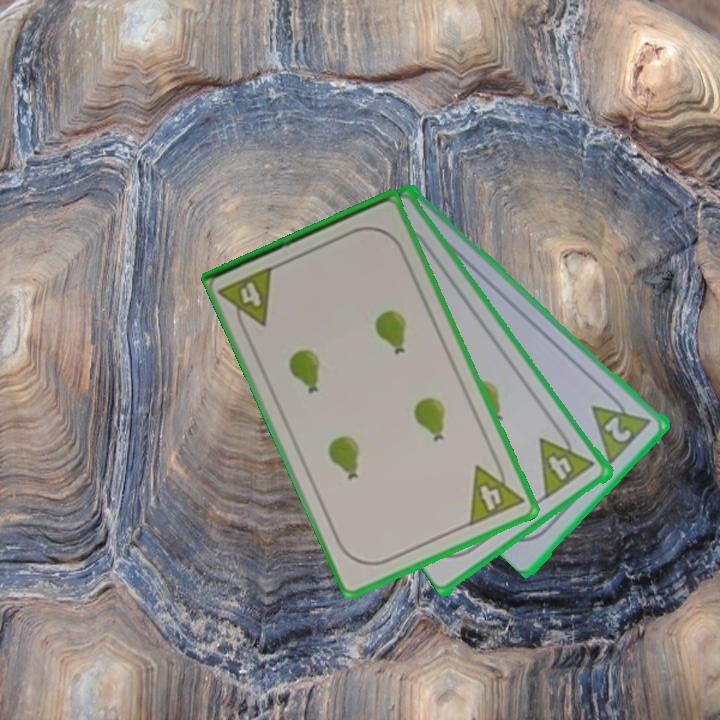2p: (601, 412, 636, 445)
4p: (536, 424, 599, 501), (465, 454, 527, 529), (216, 262, 278, 336)
